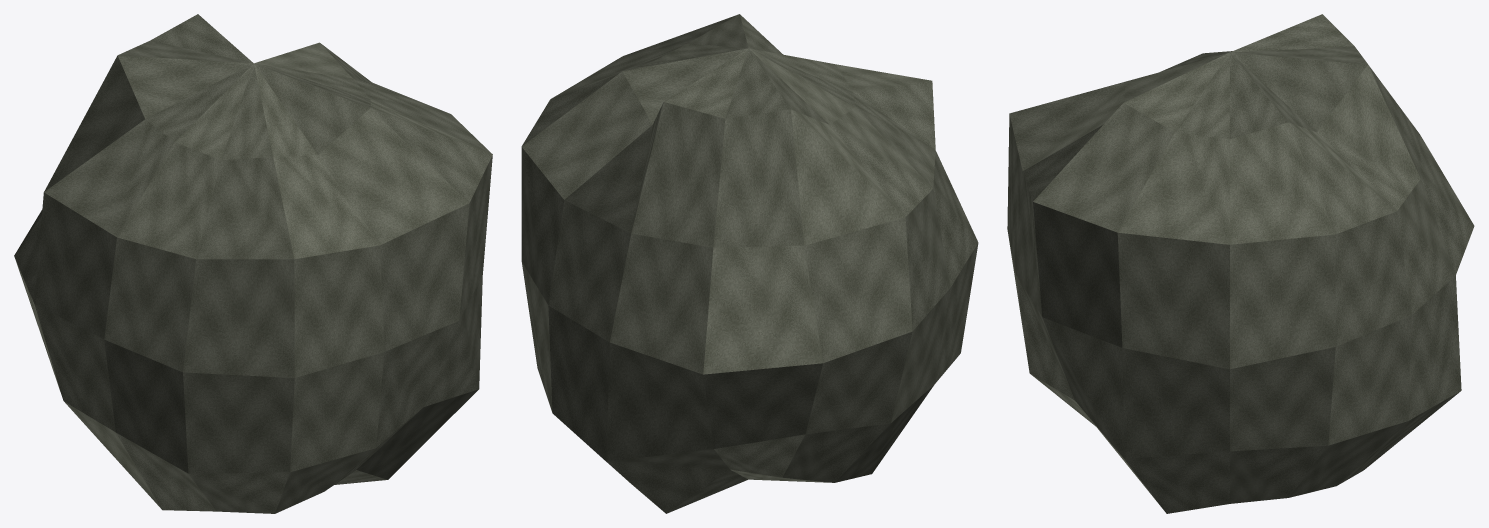
Rendered from boulder_weathered_01.fbx.
3 views of the same model, side by side, from view 1: azimuth 30°, elevation 25°; view 2: azimuth 150°, elevation 25°; view 3: azimuth 270°, elevation 25° (orthographic).
Parts seen in each view (by area): view 1: boulder_weathered_01_LOD0; view 2: boulder_weathered_01_LOD0; view 3: boulder_weathered_01_LOD0.
Part boxes in pixels (box(x1,y1,x2,y2)): boulder_weathered_01_LOD0: box(14, 14, 492, 513); boulder_weathered_01_LOD0: box(521, 14, 978, 513); boulder_weathered_01_LOD0: box(1007, 14, 1474, 513).
Size of what is drawn, in the model's own units: 1 by 1 by 1.
1 material, 1 textured.
